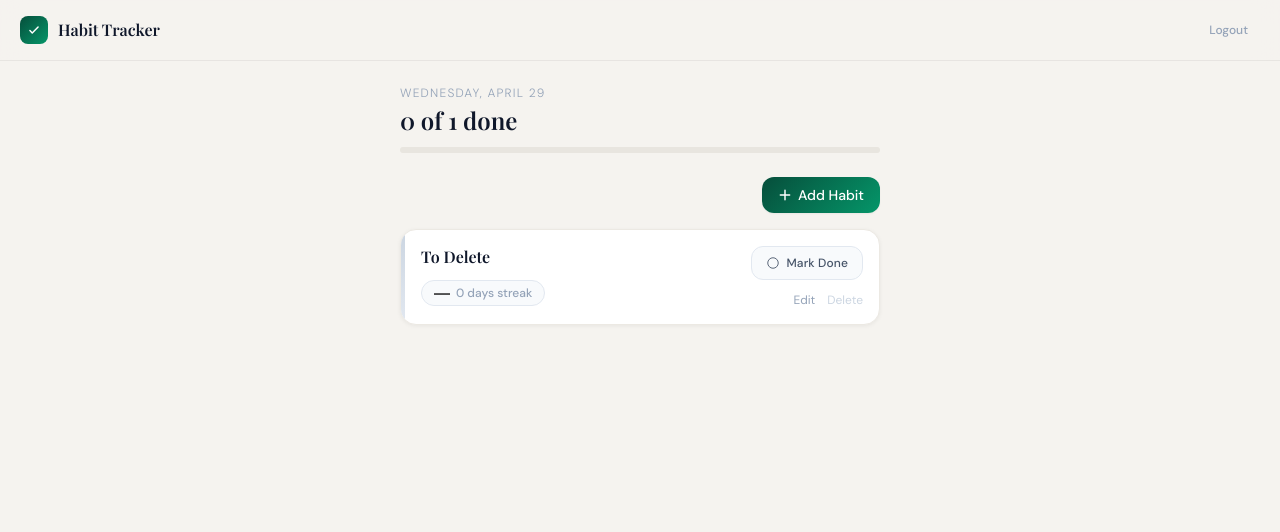
Scenario: habit form › deletes a habit only after explicit confirmation
Click the button with test id "habit-delete-to-delete" at [845, 300], box [827,292,863,308]
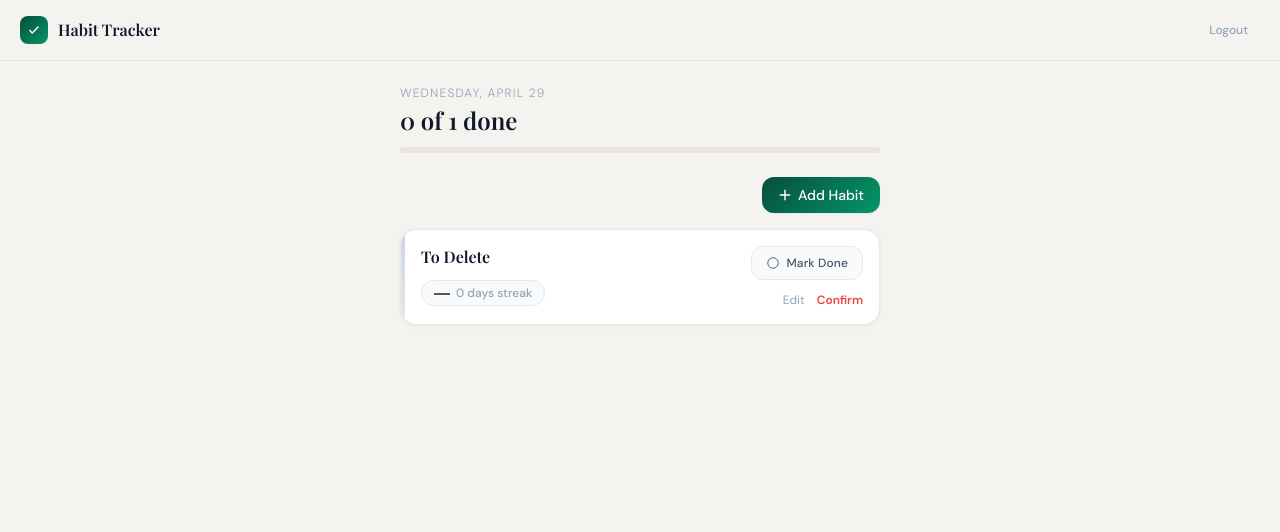
Expected: the button with test id "confirm-delete-button" is shown
Note: Clicks the inline confirmation button
Click the button with test id "confirm-delete-button" at [840, 300], box [817,292,863,308]
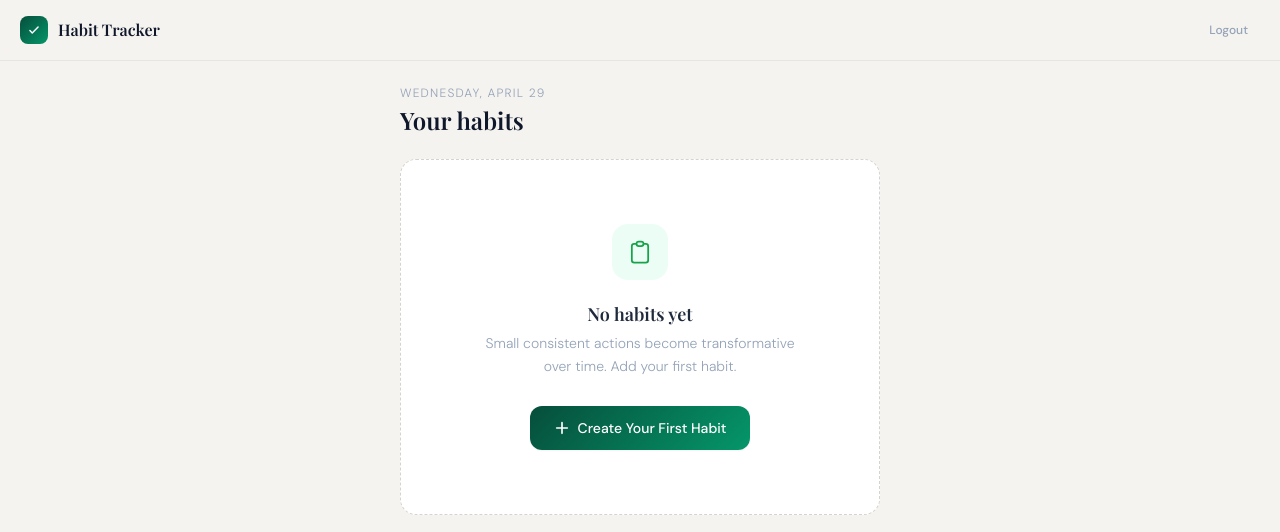
Expected: the element with test id "habit-card-to-delete" is gone
